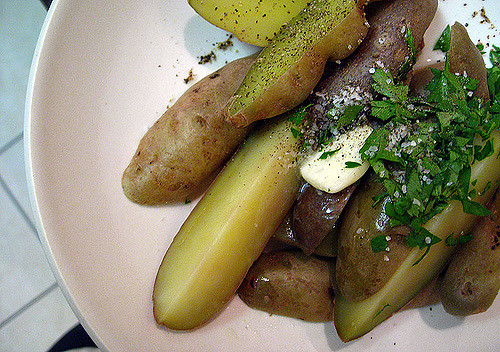boiled potatoes: (183, 112, 327, 301)
